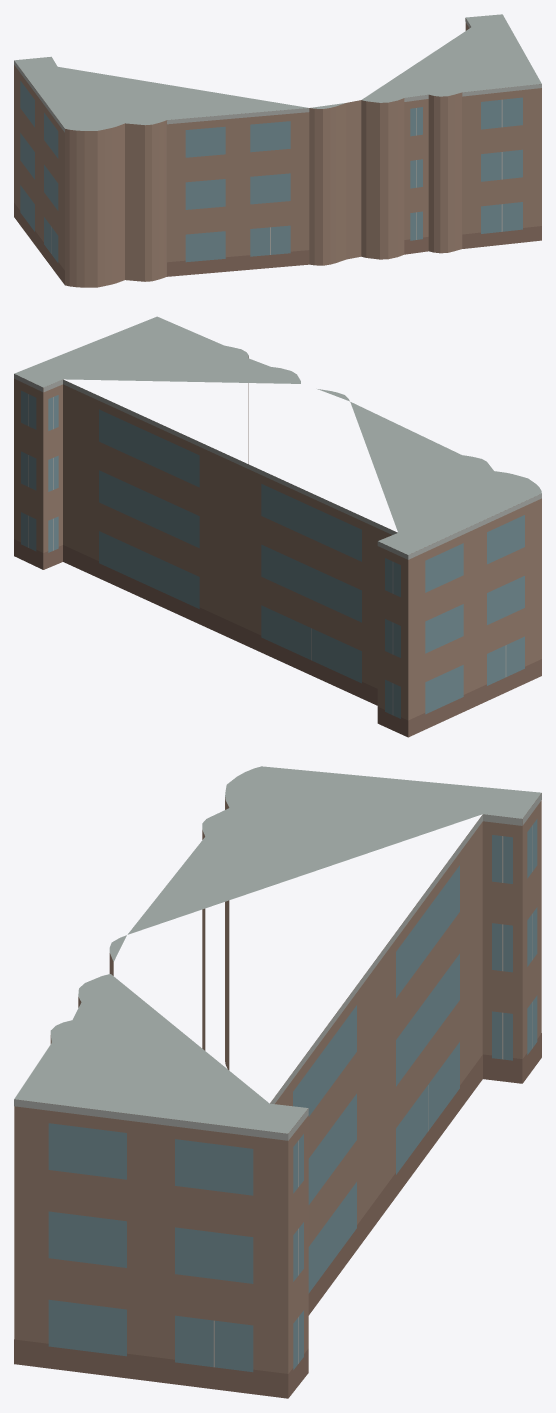
Rendered from survey-upis-32874399.glb.
3 views of the same model, one above another, from view 1: azimuth 30°, elevation 25°; view 2: azimuth 150°, elevation 25°; view 3: azimuth 270°, elevation 25° (orthographic). The views are drawn at different scales.
Parts seen in each view (by area): view 1: survey-upis-32874399.tmp; view 2: survey-upis-32874399.tmp; view 3: survey-upis-32874399.tmp.
Boxes of the visible parts, x1=… form: survey-upis-32874399.tmp: x1=14, y1=14, x2=541, y2=287; survey-upis-32874399.tmp: x1=14, y1=316, x2=541, y2=737; survey-upis-32874399.tmp: x1=14, y1=766, x2=541, y2=1398.
Bounding box in the file's own units: 27.24 × 9.15 × 16.53.
